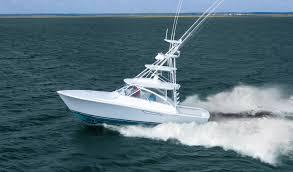fishing boat: (50, 3, 223, 130)
